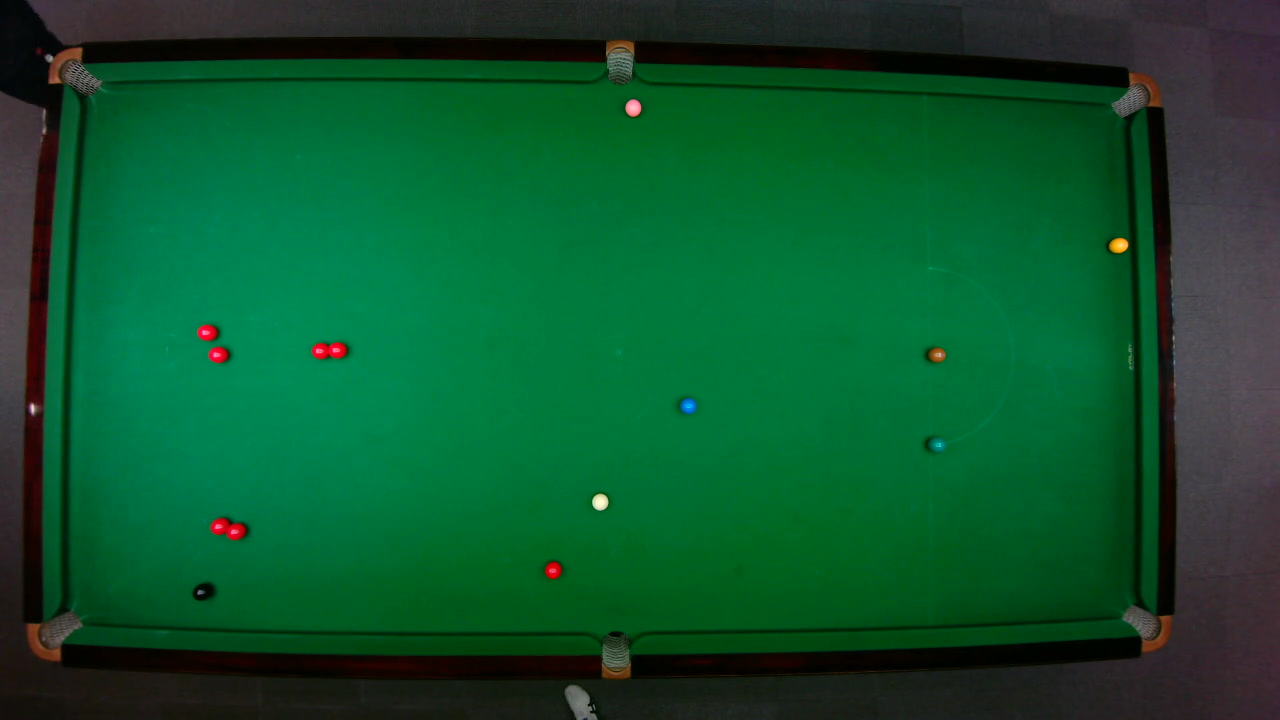bag: (24, 609, 83, 661), (45, 46, 103, 96), (1119, 603, 1171, 652), (1108, 71, 1161, 118), (600, 629, 629, 679), (605, 38, 633, 85)
black: (191, 582, 212, 601)
blue: (678, 397, 697, 414)
brown: (926, 346, 946, 362)
green: (926, 435, 946, 452)
pink: (623, 97, 642, 117)
red: (224, 520, 247, 540), (208, 516, 230, 536), (195, 322, 218, 341), (325, 340, 347, 359), (206, 345, 229, 363), (543, 559, 563, 579), (309, 341, 330, 359)
white: (590, 492, 609, 511)
yellow: (1107, 236, 1129, 253)
zone: (926, 265, 1013, 445)
